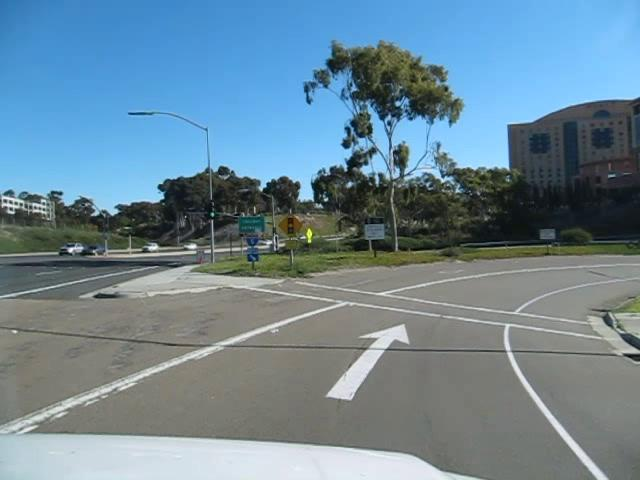signalAhead: (276, 211, 303, 238)
